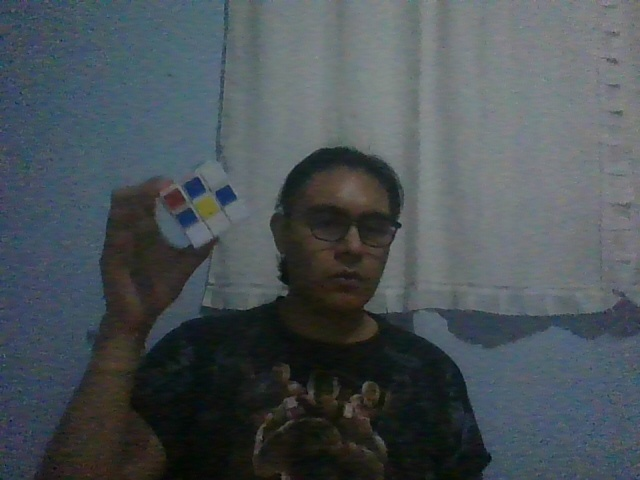rubik: (158, 159, 249, 249)
